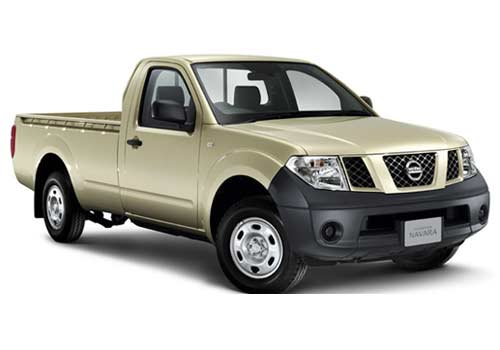pickup: (9, 50, 491, 305)
